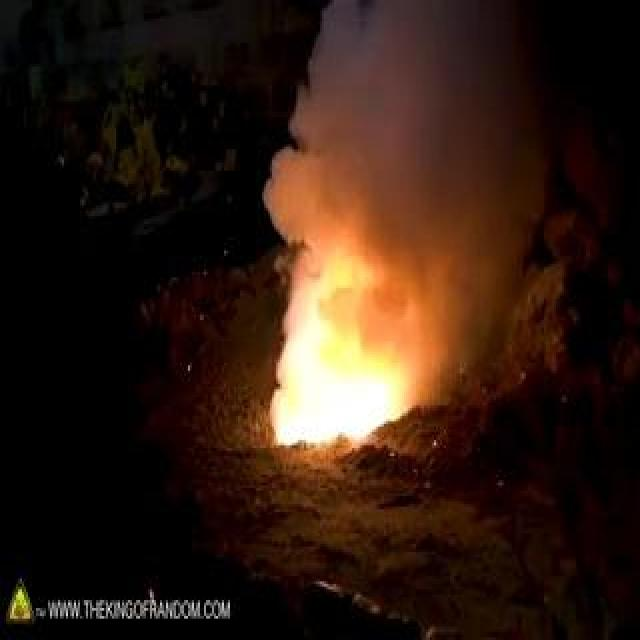Fire: (154, 224, 337, 342)
